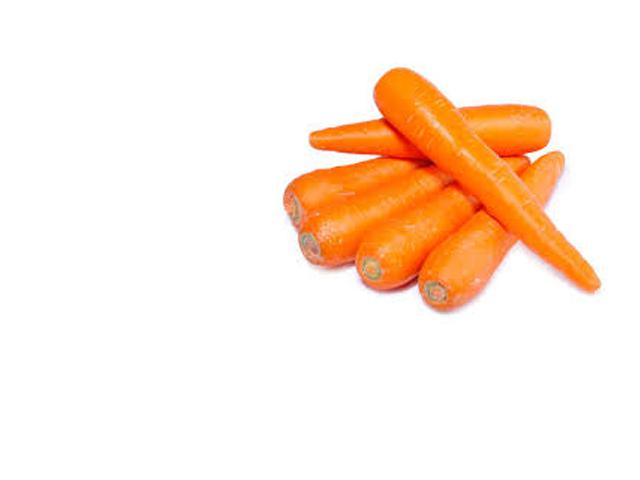carrot: (425, 148, 587, 331)
